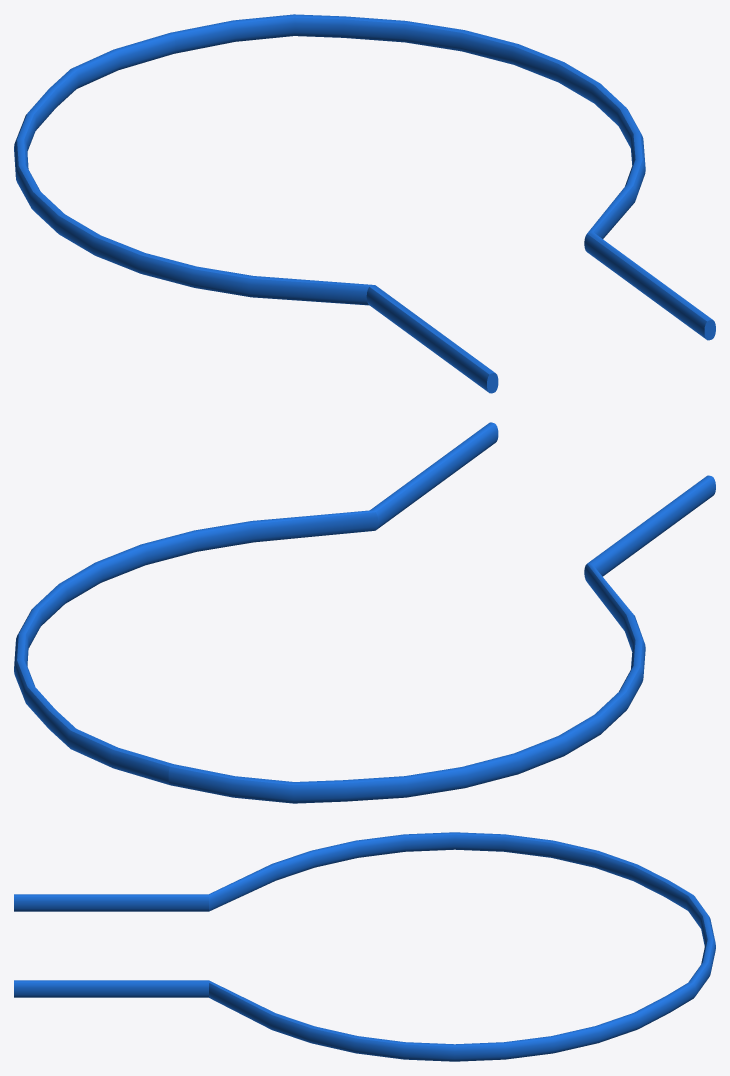
Rendered from Boru_1.fbx.
The picture shows the model from 3 angles, top to bottom: view 1: azimuth 30°, elevation 25°; view 2: azimuth 150°, elevation 25°; view 3: azimuth 270°, elevation 25°; orthographic projection. The views are drawn at different scales.
Visible parts, largest first — view 1: Circle.002; view 2: Circle.002; view 3: Circle.002.
Part boxes in pixels (x1,y1,x2,y2): Circle.002: [14, 14, 715, 393]; Circle.002: [14, 422, 715, 803]; Circle.002: [14, 832, 715, 1061].
Bounding box in the file's own units: 5230 × 194 × 7167.
